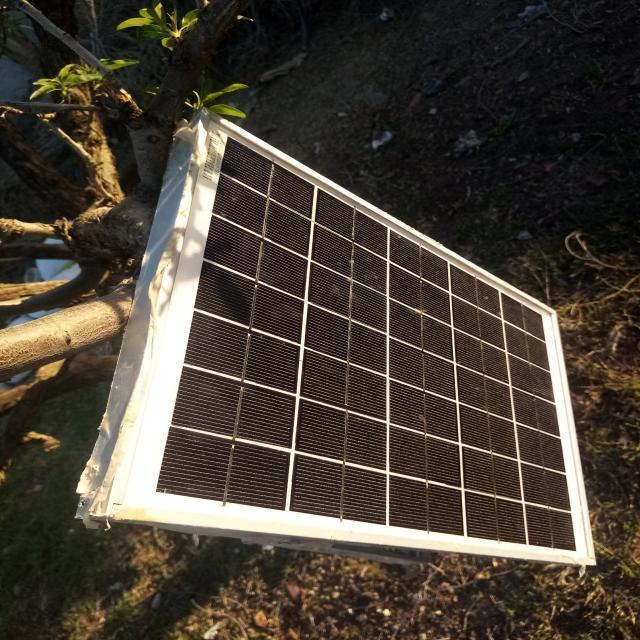Normal Solar Panel: (109, 115, 593, 554)
